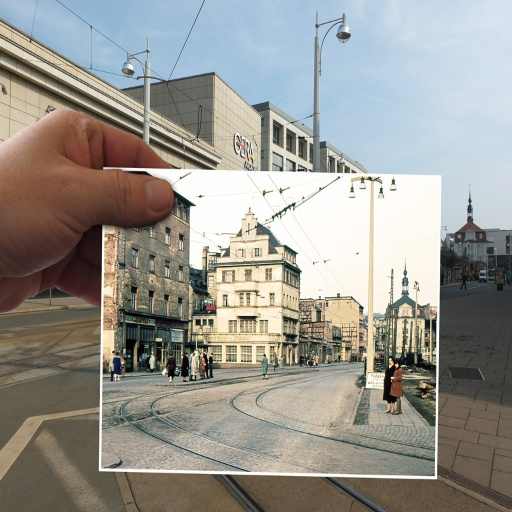hand: (3, 99, 183, 282)
